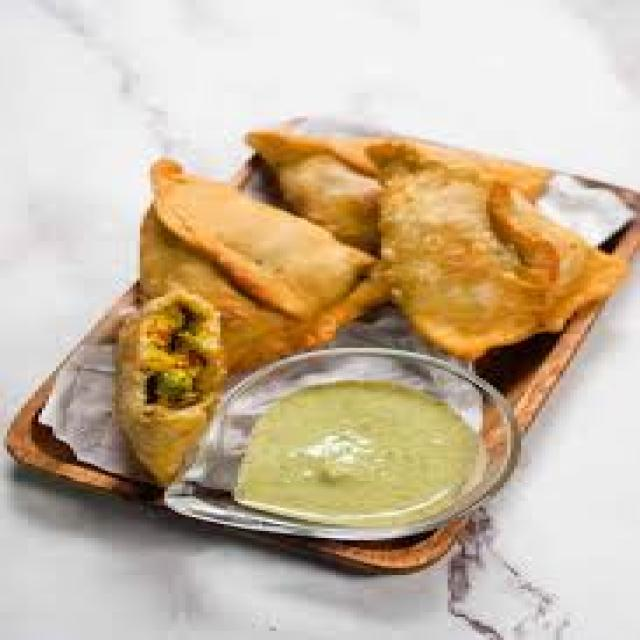SAMOSA: (140, 160, 385, 371), (381, 155, 598, 357), (248, 132, 549, 250), (115, 290, 220, 480)
